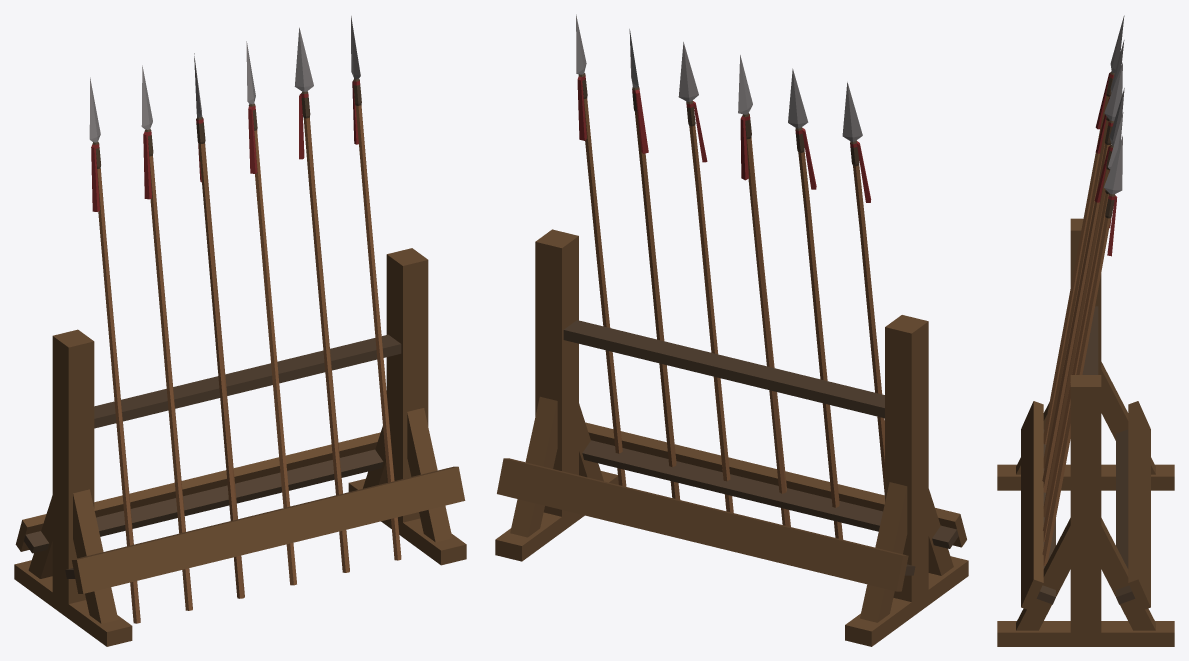
File: empire-weapon-stand-spear-empire.glb
The picture shows the model from 3 angles, left to right: view 1: azimuth 30°, elevation 25°; view 2: azimuth 150°, elevation 25°; view 3: azimuth 270°, elevation 25°; orthographic projection. The views are drawn at different scales.
Parts seen in each view (by area): view 1: SM_Weapon_Stand_Spear_Empire; view 2: SM_Weapon_Stand_Spear_Empire; view 3: SM_Weapon_Stand_Spear_Empire.
Part boxes in pixels (x1,y1,x2,y2): SM_Weapon_Stand_Spear_Empire: (14, 16, 466, 646); SM_Weapon_Stand_Spear_Empire: (495, 14, 968, 646); SM_Weapon_Stand_Spear_Empire: (997, 15, 1174, 646).
Bounding box in the file's own units: 2.1 × 2.68 × 0.88.
